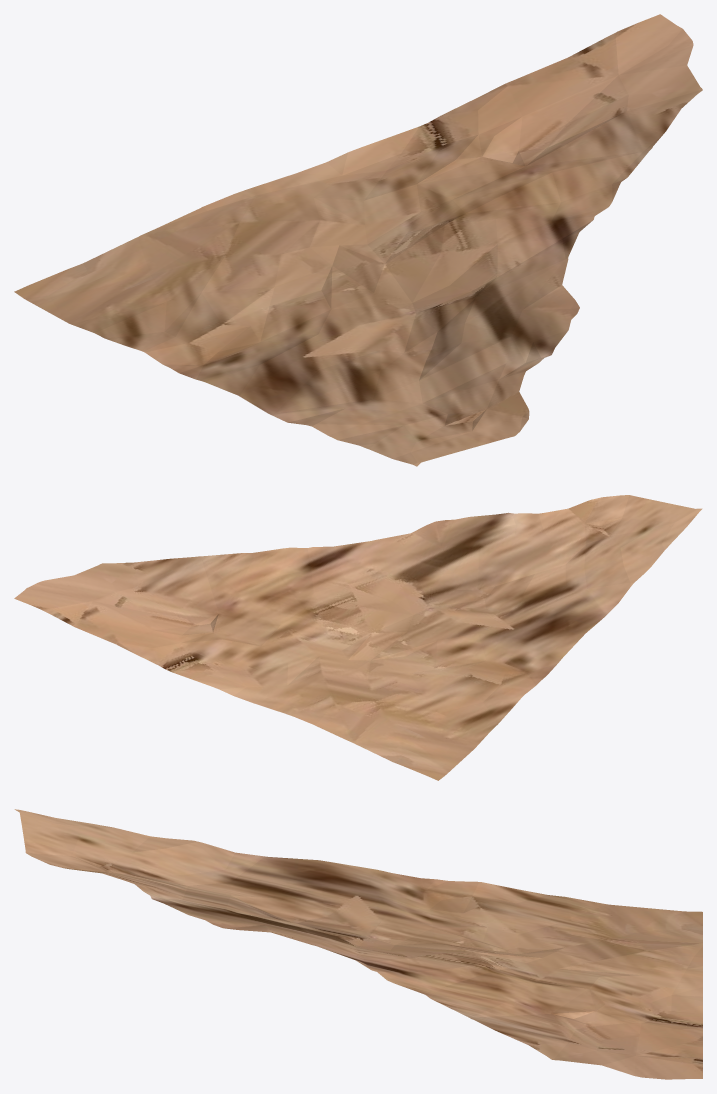
3 renders of one model, top to bottom at view 1: azimuth 30°, elevation 25°; view 2: azimuth 150°, elevation 25°; view 3: azimuth 270°, elevation 25°, orthographic. The views are drawn at different scales.
Bounding box in the file's own units: 0.7348 × 0.1299 × 0.7911.
1 material, 1 textured.
